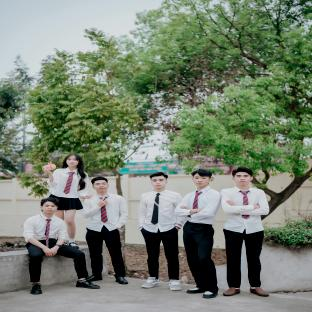Human: (138, 166, 269, 298), (23, 154, 128, 294)
